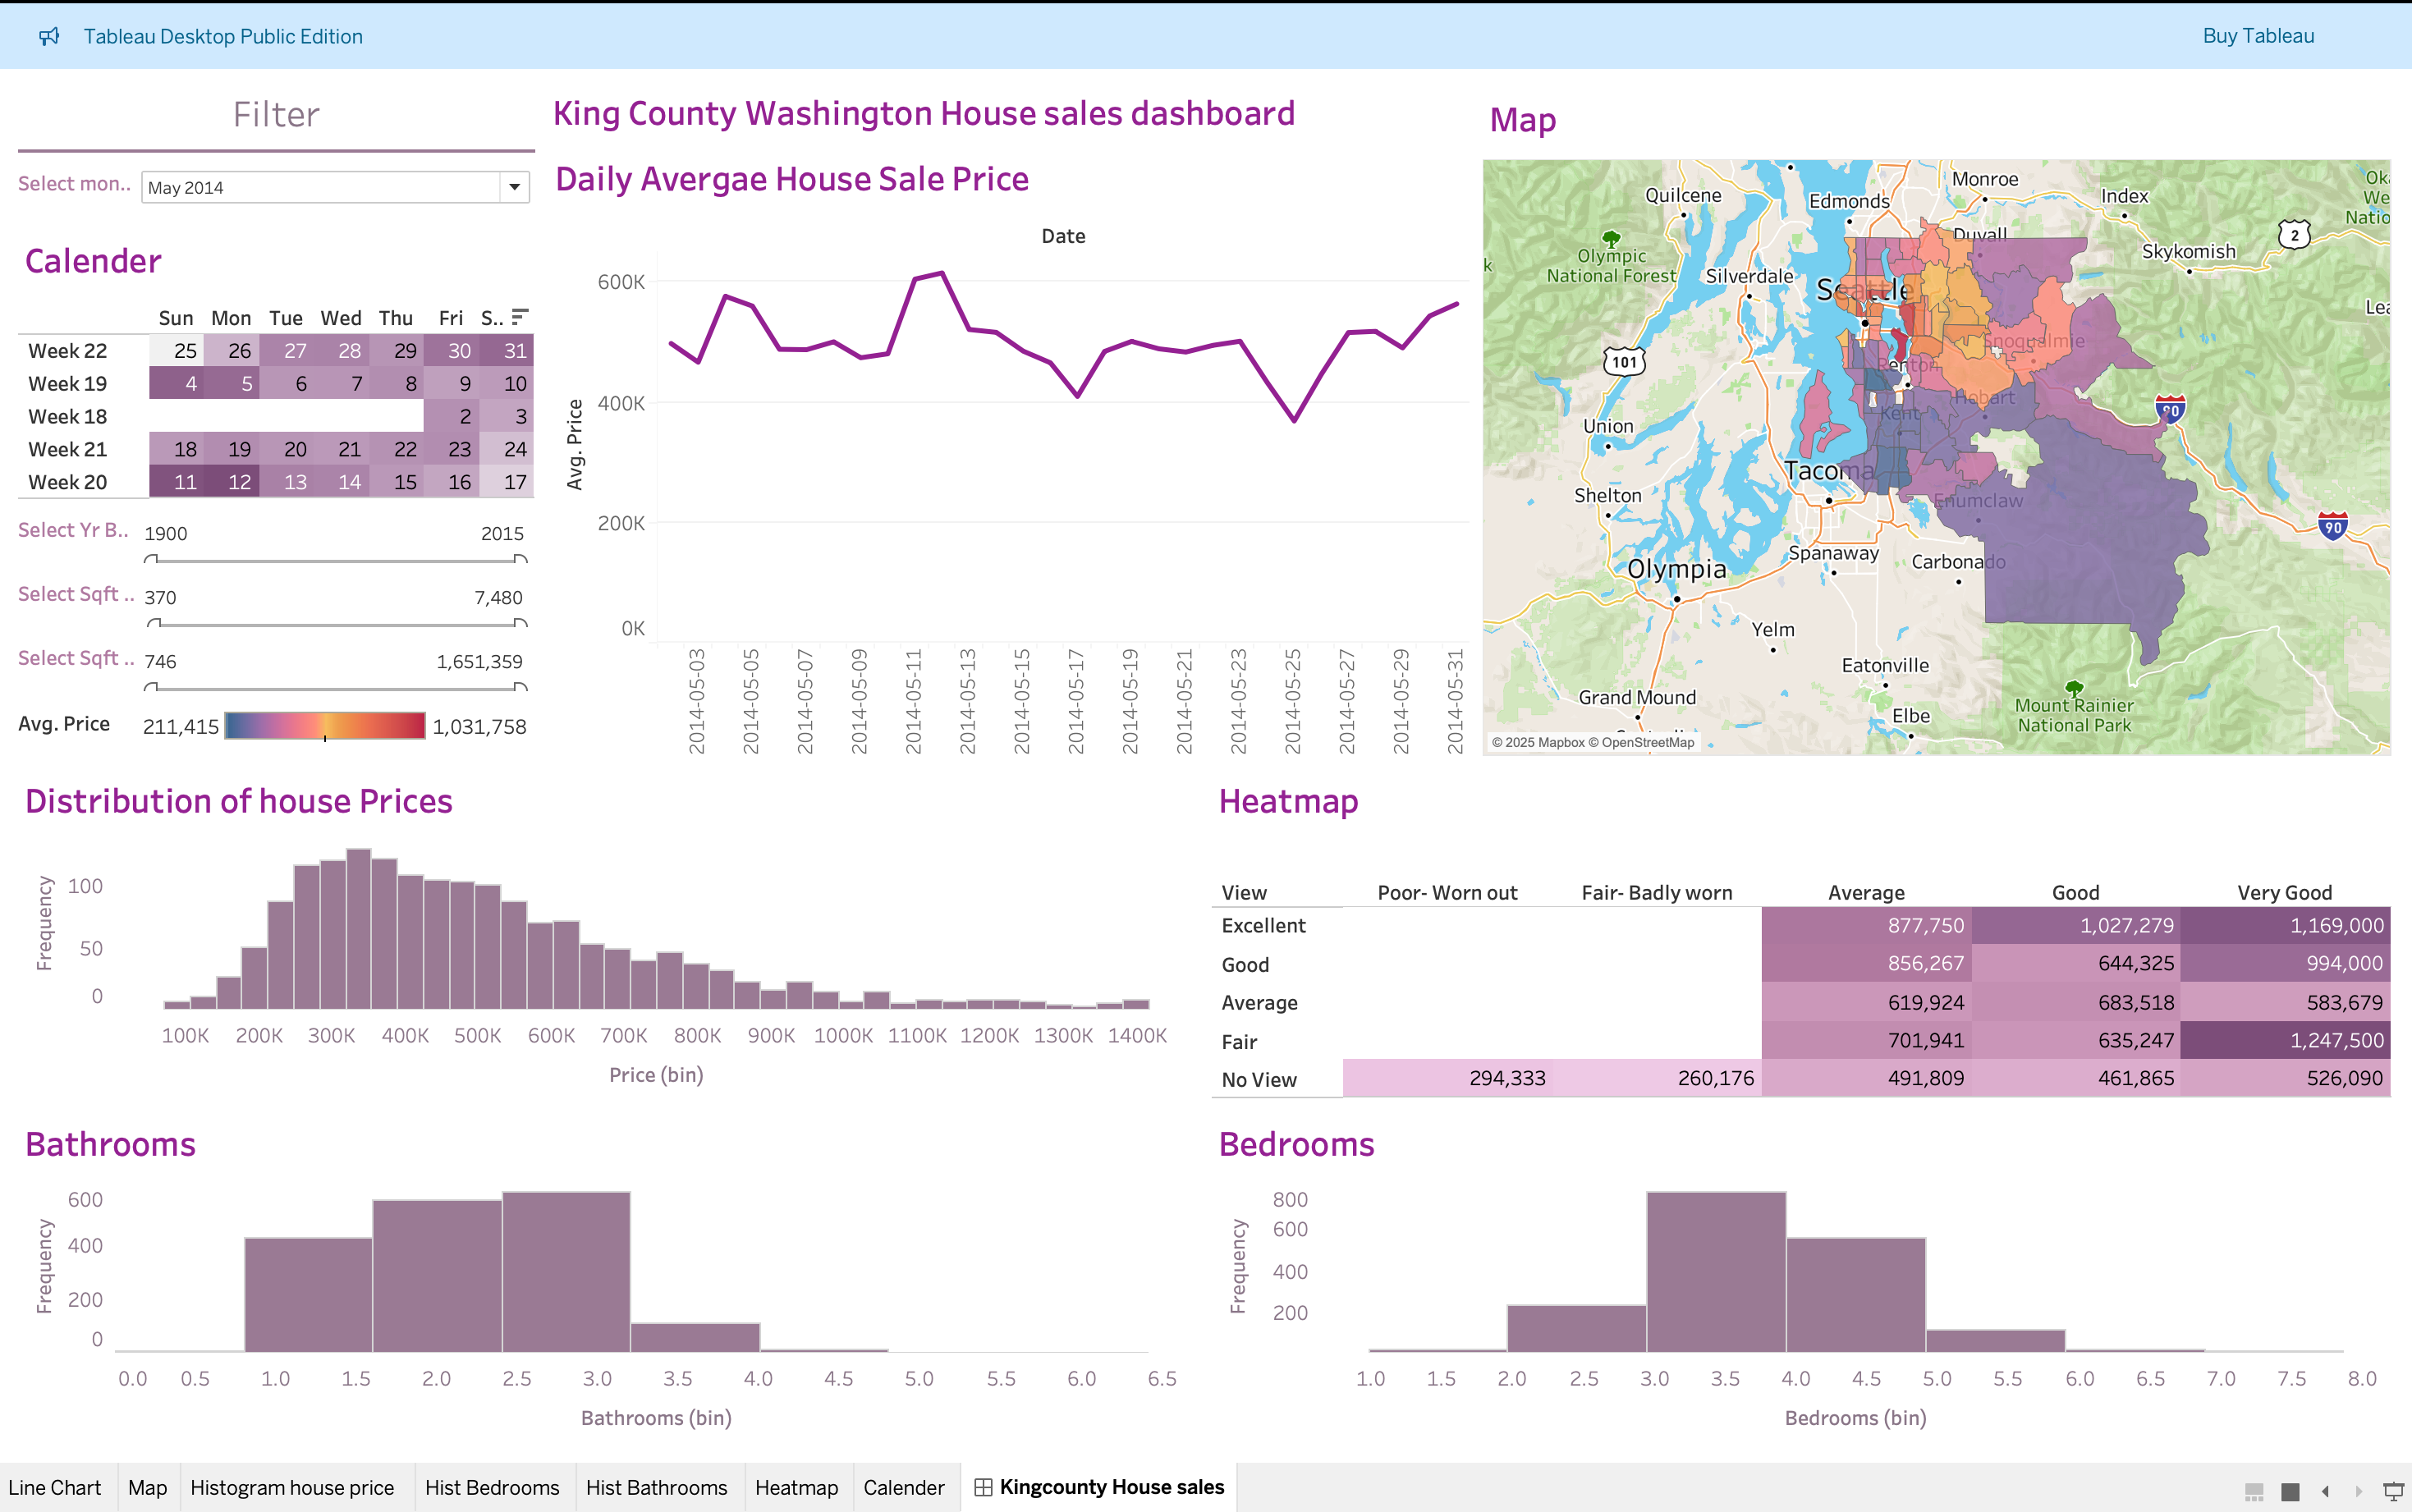

This screenshot's page, from the dashboard's own definition file:
{"tool":"tableau","page":{"name":"Kingcounty House sales","canvas":[1000,1000],"units":"permille","ordinal":0},"visuals":[{"type":"text","box":[6.4,11.4,219.6,45.8]},{"type":"text","box":[225.9,11.4,386.2,51.5]},{"type":"worksheet","title":"Map","mark":"Automatic","box":[612.1,11.4,381.5,486.5]},{"type":"blank","box":[6.4,57.2,219.6,14.3]},{"type":"worksheet","title":"Line Chart","mark":"Line","rows":["price"],"cols":["date"],"box":[225.9,62.9,386.2,435]},{"type":"filter","title":"Calender","param":"[federated.0fynrwa1bvm0j81gj8cr80snkg6q].[my:date:ok]","box":[6.4,71.5,219.6,45.8]},{"type":"worksheet","title":"Calender","mark":"Square","rows":["date"],"cols":["date"],"box":[6.4,117.3,219.6,197.5]},{"type":"filter","title":"Calender","param":"[federated.0fynrwa1bvm0j81gj8cr80snkg6q].[none:yr_built:qk]","box":[6.4,314.8,219.6,45.8]},{"type":"filter","title":"Calender","param":"[federated.0fynrwa1bvm0j81gj8cr80snkg6q].[none:sqft_living:qk]","box":[6.4,360.6,219.6,45.8]},{"type":"filter","title":"Calender","param":"[federated.0fynrwa1bvm0j81gj8cr80snkg6q].[none:sqft_lot:qk]","box":[6.4,406.4,219.6,45.8]},{"type":"legend","title":"Map","param":"[federated.0fynrwa1bvm0j81gj8cr80snkg6q].[avg:price:qk]","box":[6.4,452.1,219.6,45.8]},{"type":"worksheet","title":"Histogram house price","mark":"Automatic","rows":["price"],"cols":["Price (bin)"],"box":[6.4,497.9,493.7,245.3]},{"type":"worksheet","title":"Heatmap","mark":"Square","rows":["view"],"cols":["condition"],"box":[500,497.9,493.7,245.3]},{"type":"worksheet","title":"Hist Bathrooms","mark":"Automatic","rows":["bathrooms"],"cols":["Bathrooms (bin)"],"box":[6.4,743.2,493.7,245.3]},{"type":"worksheet","title":"Hist Bedrooms","mark":"Automatic","rows":["bedrooms"],"cols":["Bedrooms (bin)"],"box":[500,743.2,493.7,245.3]}]}

Visuals, with their boxes on the dashboard's canvas, which has no fixed pixel size, in thousandths of its width and height (x1, y1, x2, y2). These are canvas units, not pixel positions in the 2412x1512 screenshot, which may show the page scaled, cropped or inside an application window:
text: BBox(6, 11, 226, 57)
text: BBox(226, 11, 612, 63)
"Map" worksheet: BBox(612, 11, 994, 498)
blank: BBox(6, 57, 226, 72)
"Line Chart" worksheet (Line marks): BBox(226, 63, 612, 498)
"Calender" filter: BBox(6, 72, 226, 117)
"Calender" worksheet (Square marks): BBox(6, 117, 226, 315)
"Calender" filter: BBox(6, 315, 226, 361)
"Calender" filter: BBox(6, 361, 226, 406)
"Calender" filter: BBox(6, 406, 226, 452)
"Map" legend: BBox(6, 452, 226, 498)
"Histogram house price" worksheet: BBox(6, 498, 500, 743)
"Heatmap" worksheet (Square marks): BBox(500, 498, 994, 743)
"Hist Bathrooms" worksheet: BBox(6, 743, 500, 988)
"Hist Bedrooms" worksheet: BBox(500, 743, 994, 988)
